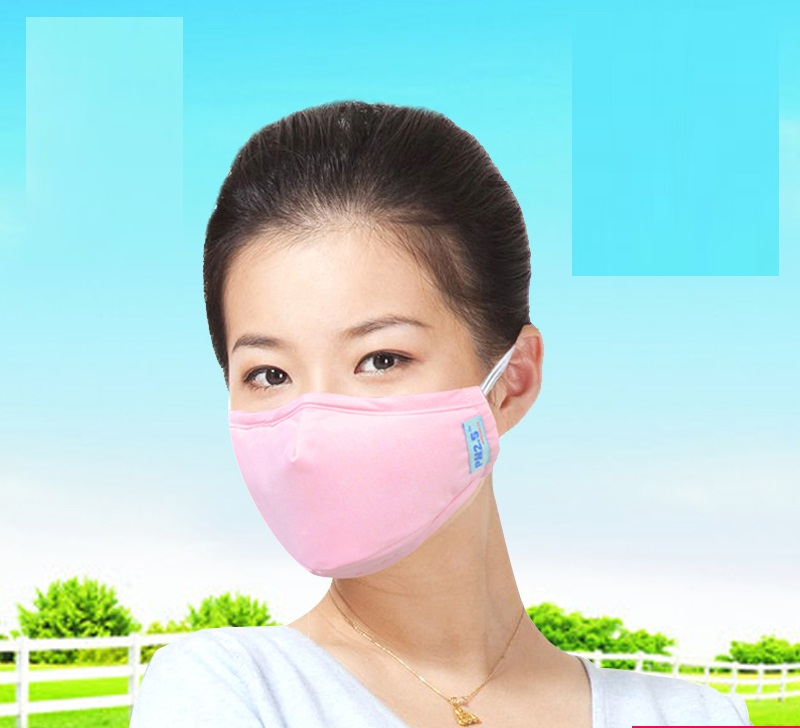face_mask: (226, 231, 486, 569)
